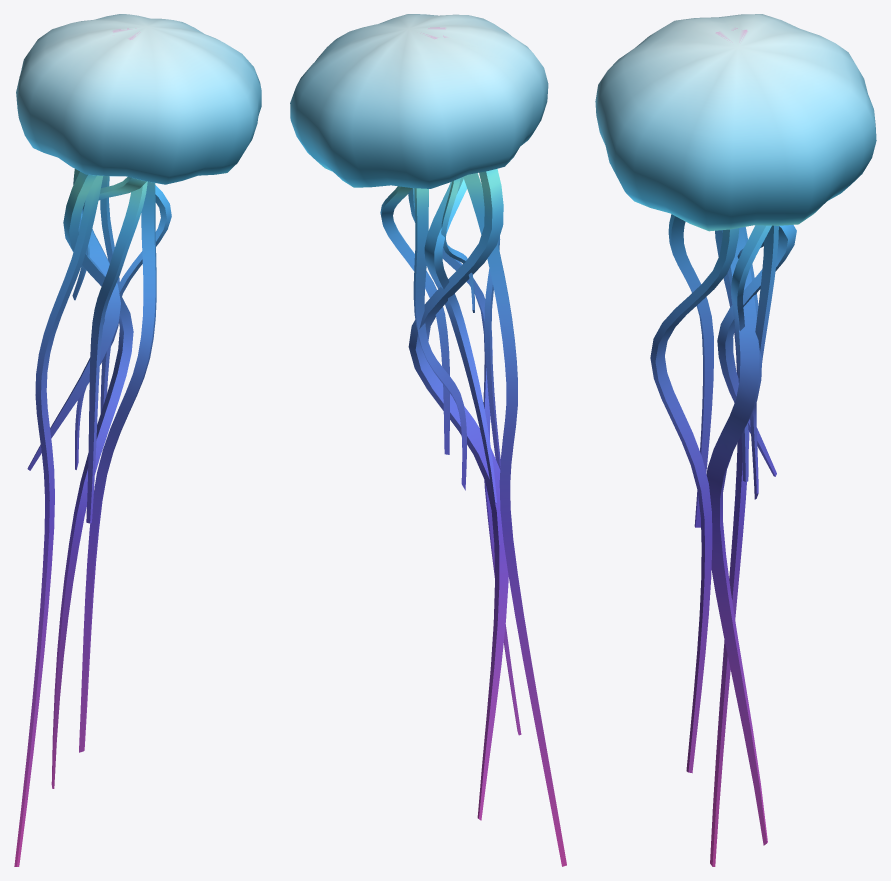
The model's file is JellyFish01.fbx.
3 renders of one model, left to right at view 1: azimuth 30°, elevation 25°; view 2: azimuth 150°, elevation 25°; view 3: azimuth 270°, elevation 25°, orthographic. The views are drawn at different scales.
Visible parts, largest first — view 1: JellyFish01; view 2: JellyFish01; view 3: JellyFish01.
Part boxes in pixels (x1,y1,x2,y2): JellyFish01: (14,14,261,866); JellyFish01: (290,14,566,866); JellyFish01: (595,14,876,866).
Bounding box in the file's own units: 0.3814 × 1.2 × 0.3407.
Materials: 1 (1 with a texture image).
